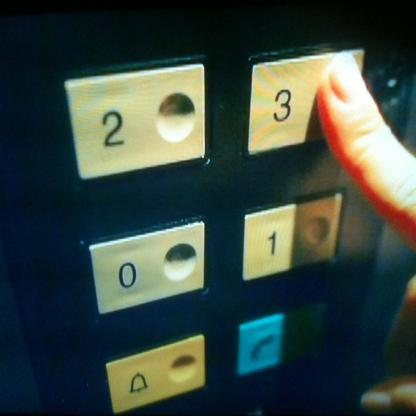0: (90, 216, 214, 318)
1: (241, 184, 349, 286)
2: (62, 56, 219, 184)
3: (245, 46, 373, 163)
alarm: (106, 326, 210, 414)
call: (238, 312, 284, 382)
